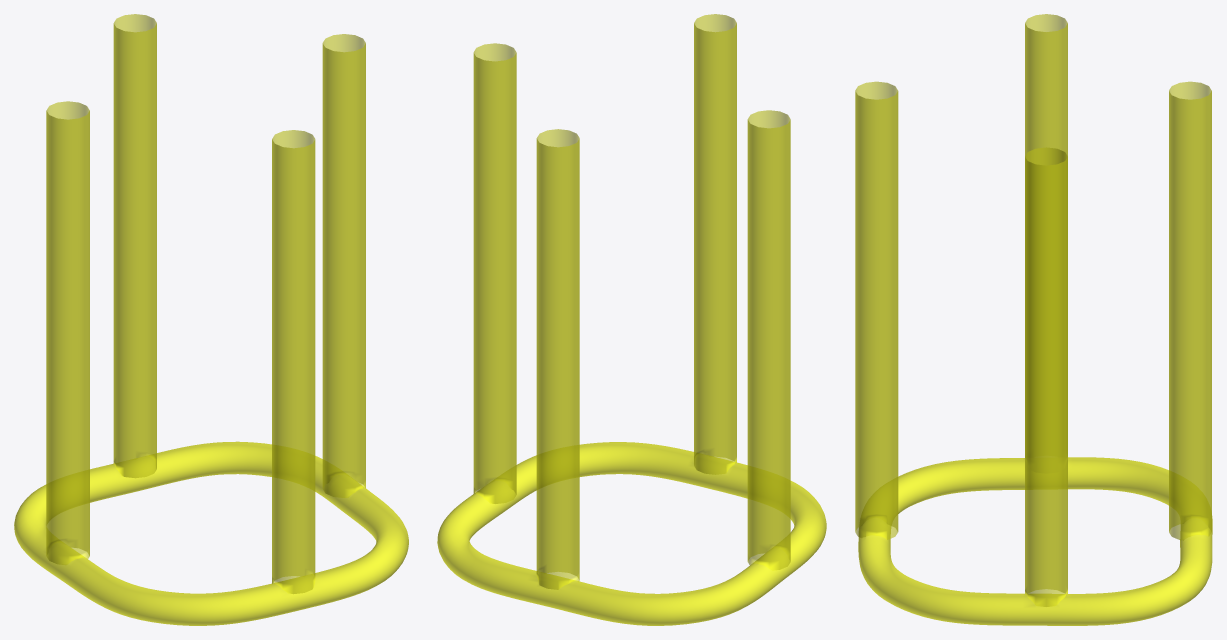
The model's file is FilamentoEncendido.dae.
The picture shows the model from 3 angles, left to right: view 1: azimuth 30°, elevation 25°; view 2: azimuth 150°, elevation 25°; view 3: azimuth 270°, elevation 25°; orthographic projection.
Visible parts, largest first — view 1: NurbsPath.004; view 2: NurbsPath.004; view 3: NurbsPath.004.
Boxes of the visible parts, x1,y1,x2,y2 form: NurbsPath.004: (14, 14, 408, 625); NurbsPath.004: (437, 14, 826, 625); NurbsPath.004: (855, 14, 1212, 625).
Bounding box in the file's own units: 0.2513 × 0.2495 × 0.358.
